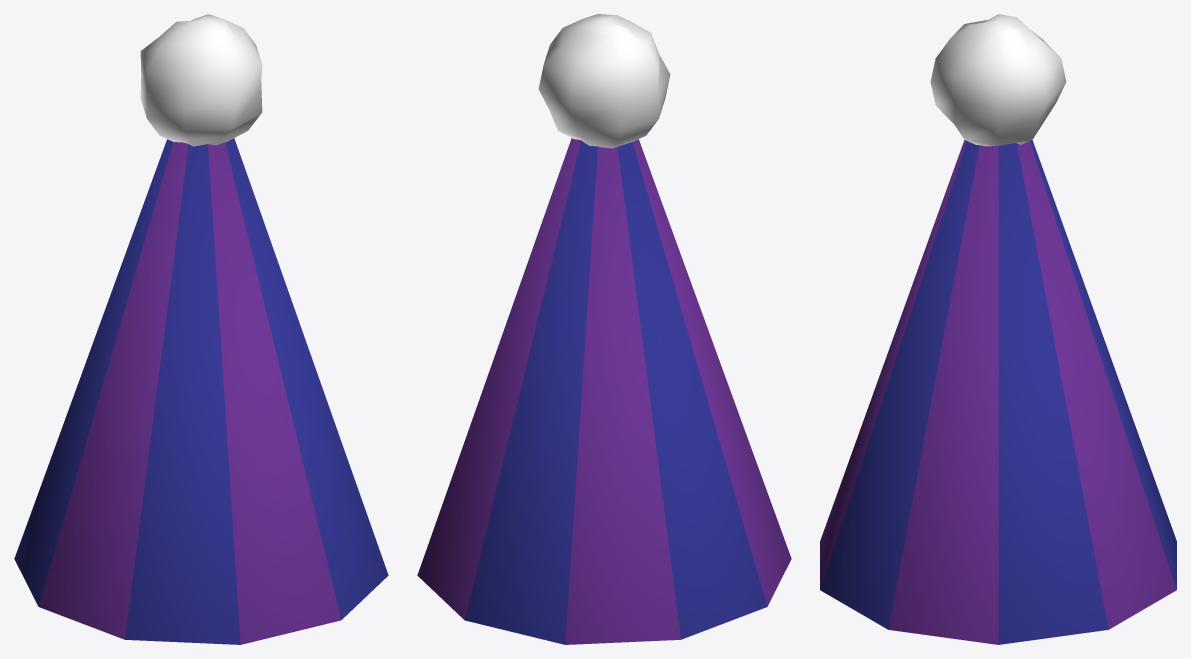
The model's file is MM_NewYearsHat.fbx.
3 views of the same model, side by side, from view 1: azimuth 30°, elevation 25°; view 2: azimuth 150°, elevation 25°; view 3: azimuth 270°, elevation 25° (orthographic).
Parts seen in each view (by area): view 1: MM_NewYearsHat; view 2: MM_NewYearsHat; view 3: MM_NewYearsHat.
Boxes of the visible parts, x1,y1,x2,y2 form: MM_NewYearsHat: (14, 14, 388, 644); MM_NewYearsHat: (417, 14, 791, 644); MM_NewYearsHat: (820, 14, 1176, 644).
Bounding box in the file's own units: 35.76 × 57.37 × 34.01.
